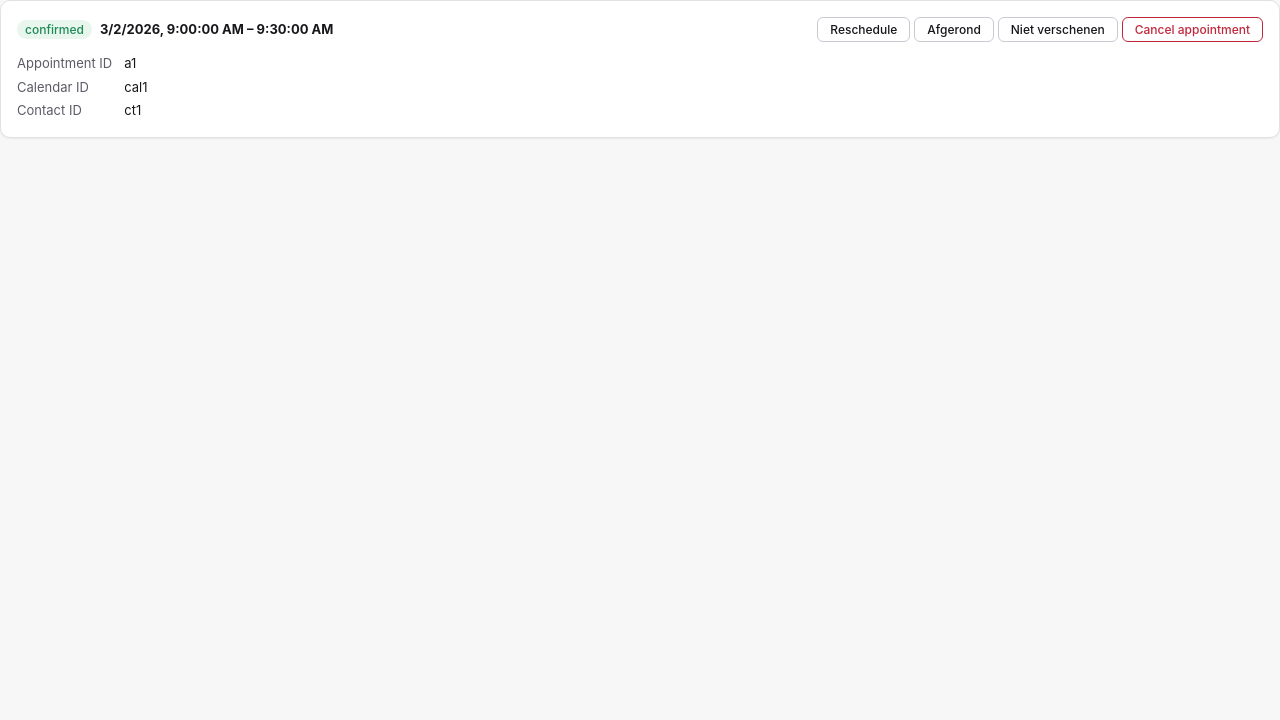
Test case: AppointmentCard › surfaces the backend's own 'already cancelled' validation message verbatim
Click the button "Cancel appointment": click(1192, 30) [1122, 17, 1263, 42]
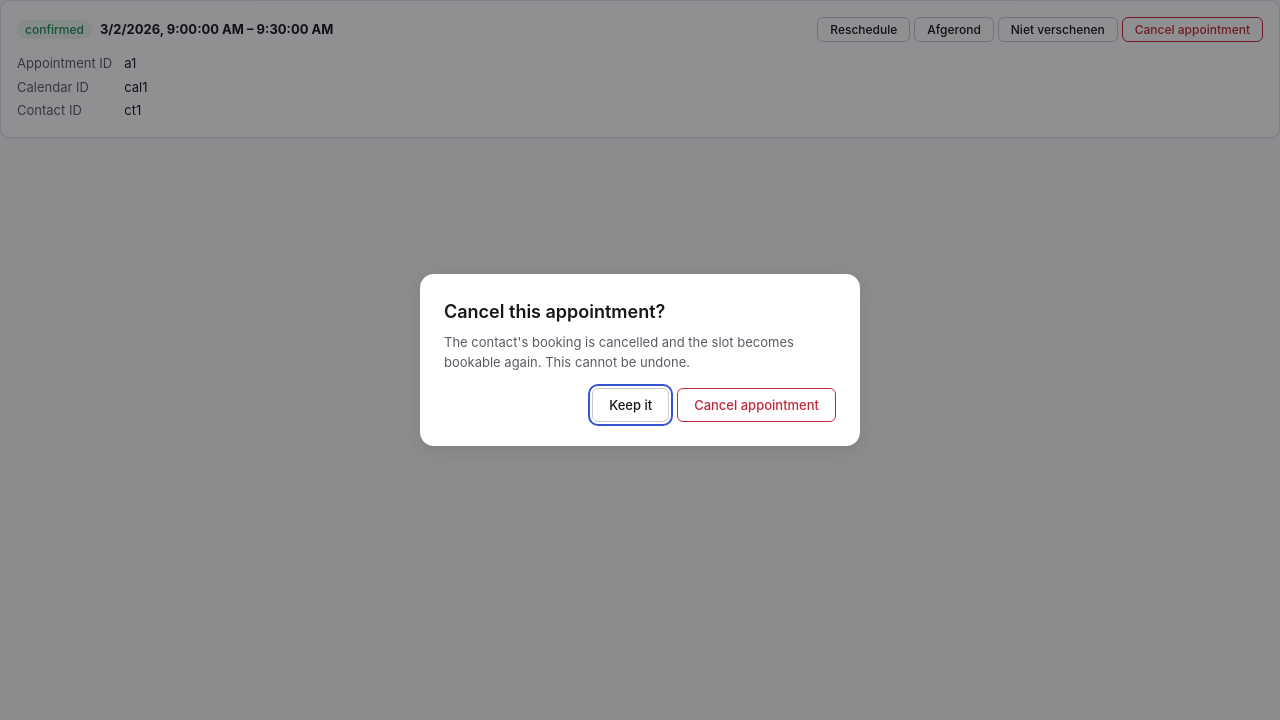
Click the button "Cancel appointment": click(757, 405) [677, 388, 836, 422]
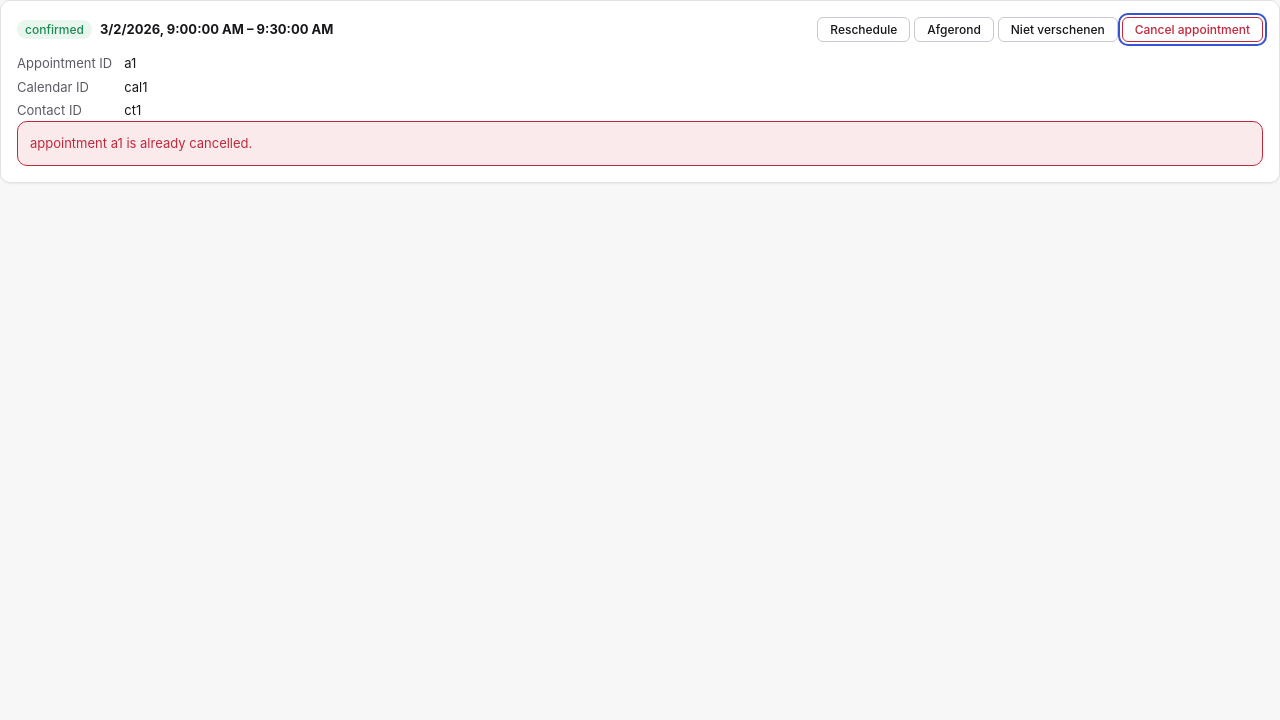
Expected: the text "appointment a1 is already cancelled." is shown, [30, 134, 252, 150]
